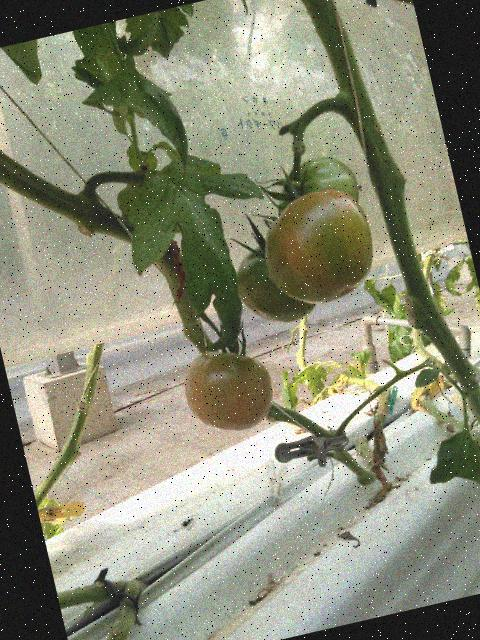b_green: (228, 234, 319, 332), (268, 149, 362, 220)
b_half_ripened: (253, 181, 384, 313), (177, 339, 280, 440)
